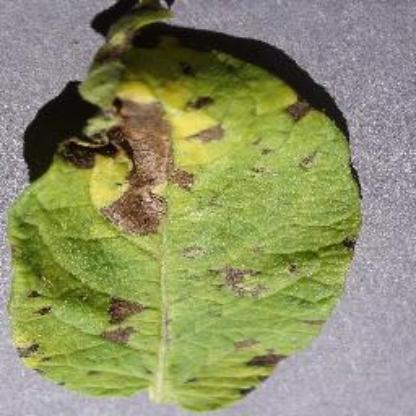Early-Blight: (3, 1, 388, 414)
